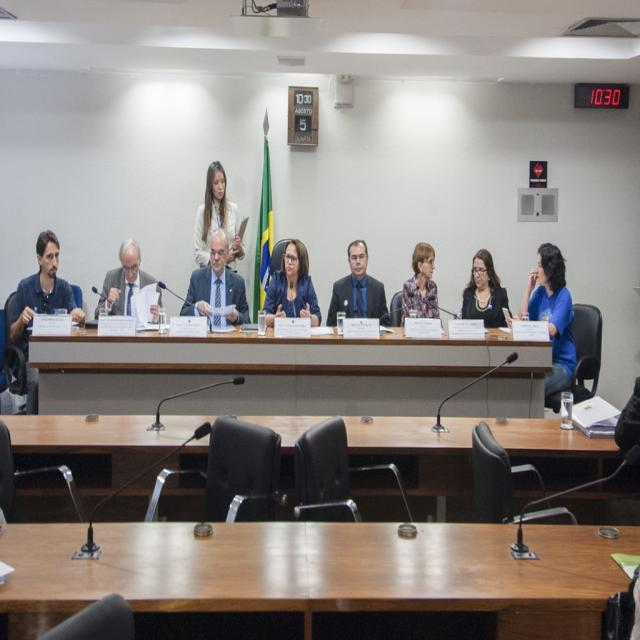chair: (150, 417, 284, 520), (292, 414, 412, 522), (472, 419, 576, 524), (294, 415, 352, 514), (37, 592, 136, 638), (571, 303, 603, 403)
desk: (26, 321, 552, 416)
laptop: (507, 316, 554, 342), (403, 315, 443, 338)
person: (5, 229, 86, 395), (522, 241, 577, 410), (190, 159, 249, 296), (180, 226, 250, 326), (325, 239, 389, 325), (262, 238, 322, 324), (100, 237, 162, 319), (461, 248, 511, 326), (400, 241, 440, 322)
